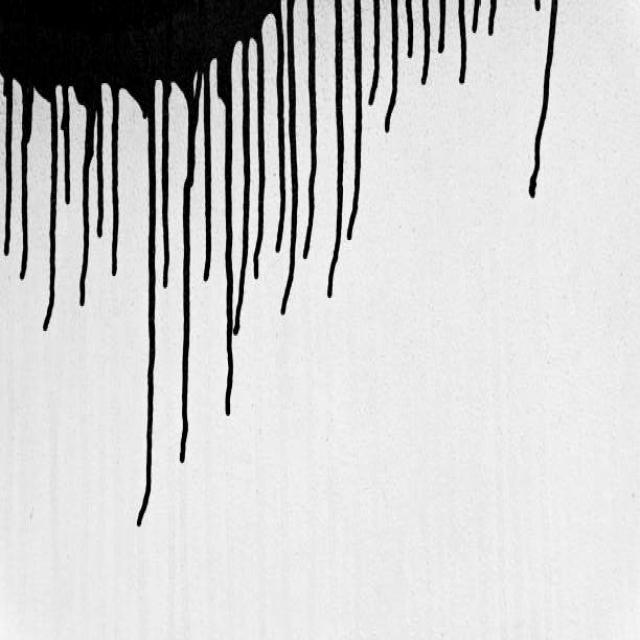paint drips: (0, 0, 504, 535), (524, 0, 564, 201)
